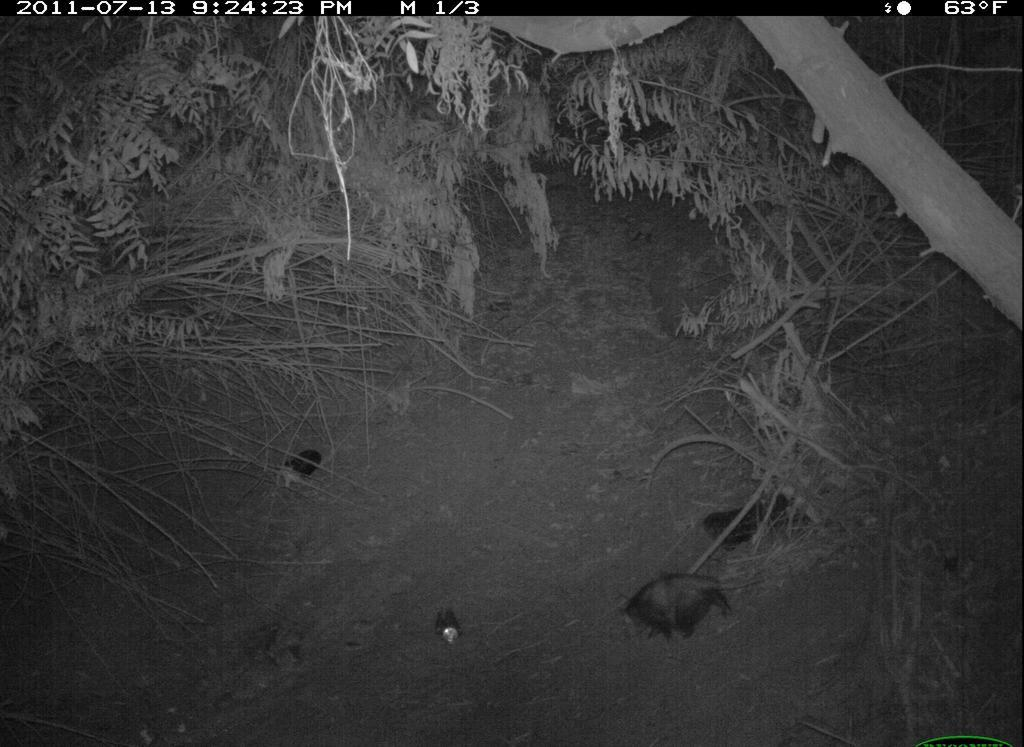opossum: (605, 565, 784, 645)
